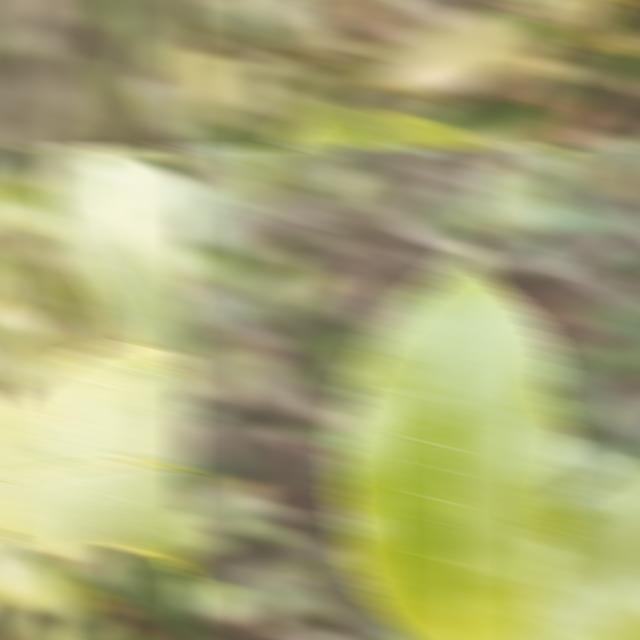Leaf: (331, 245, 575, 640), (0, 343, 193, 577), (42, 158, 193, 351), (501, 457, 640, 640), (352, 7, 564, 92), (0, 532, 89, 613), (432, 98, 559, 148), (0, 182, 68, 238), (244, 0, 312, 43), (30, 606, 66, 640), (559, 133, 640, 148)
